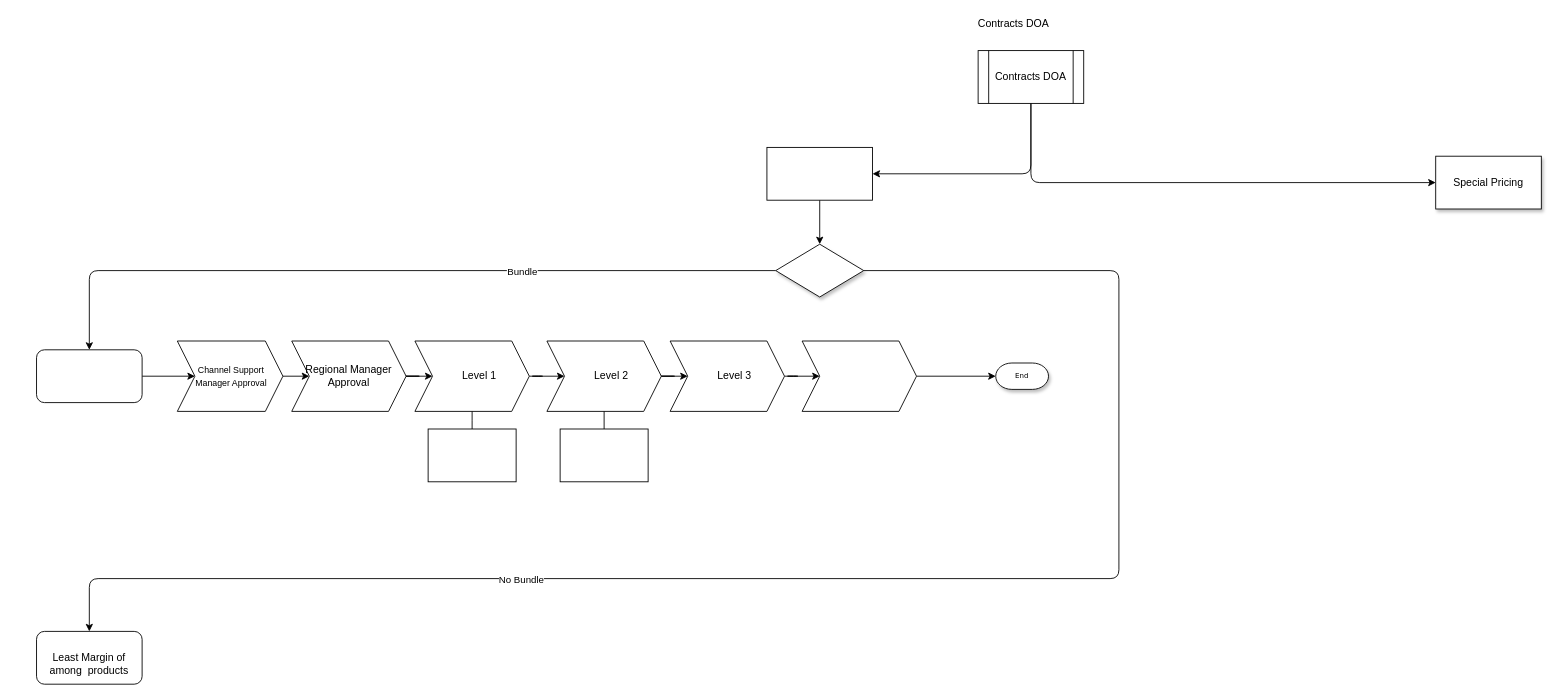
Image size: 1562x700. Some labels were removed from this diagram. Here are the shapes that lost their labels. From the top down, the centre of each, then its label:
At (819,173): "Discount Form |,Contract Pricing".
At (820,271): "Bundle | No Bundle".
At (89,376): "Total Margin of Contract Products".
At (859,375): "Level 4 FN & GM".
At (603,455): "Division".
